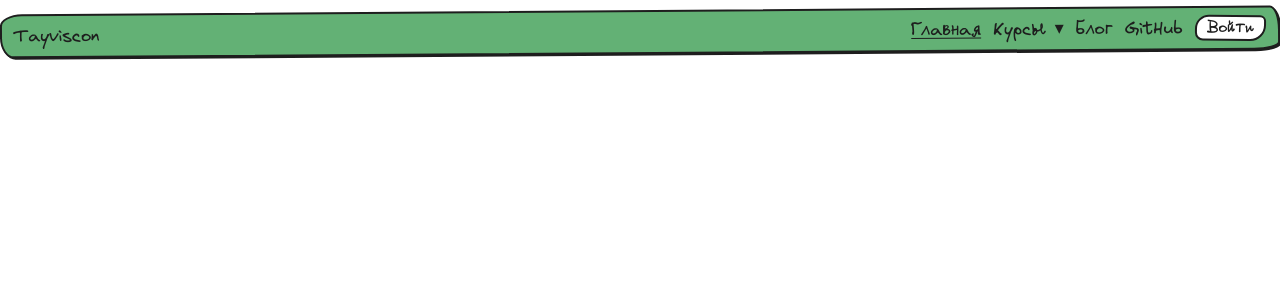
Test: SiteNav mega-menu › groups courses under Программирование, not by status
Click the button with class "mega-toggle". click: x=1028, y=29
box: left=993, top=17, right=1064, bottom=42
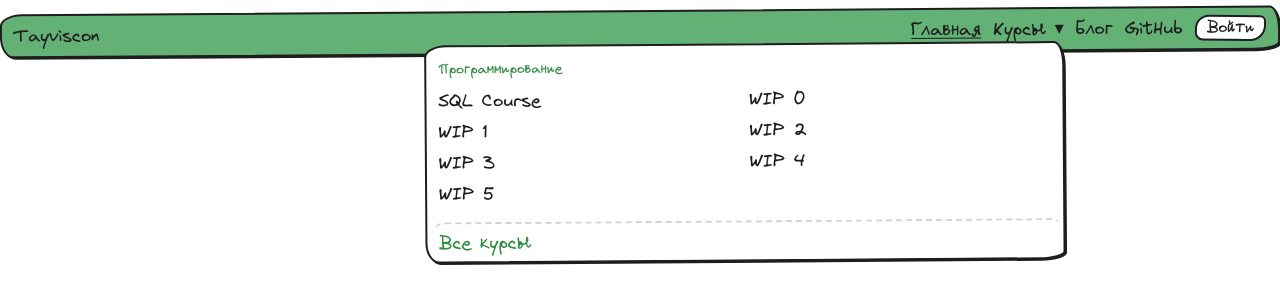
Expected: the text "Программирование" is shown, left=438, top=61, right=562, bottom=79
Expected: the text "SQL Course" is shown, left=438, top=90, right=541, bottom=114
Expected: the text "WIP 5" is shown, left=439, top=183, right=494, bottom=207
